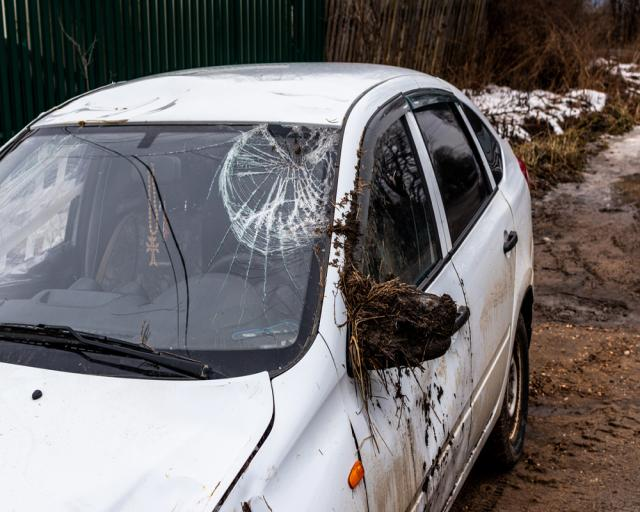dent: (60, 75, 199, 119)
glass shatter: (0, 123, 341, 378)
